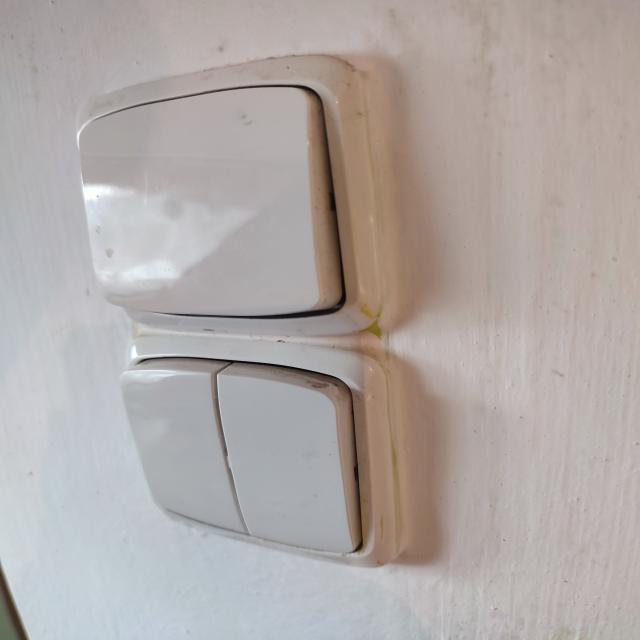house switch: (75, 54, 382, 335)
house switch double: (119, 336, 397, 567)
